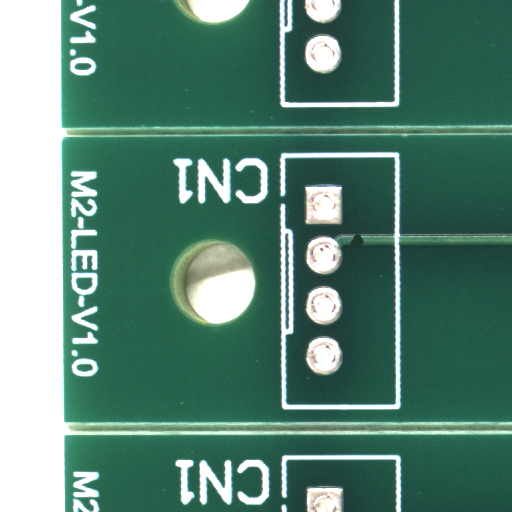Mouse_bite: (356, 240, 368, 252)
